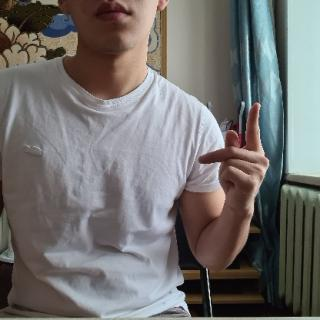DHAA: (198, 101, 272, 219)
